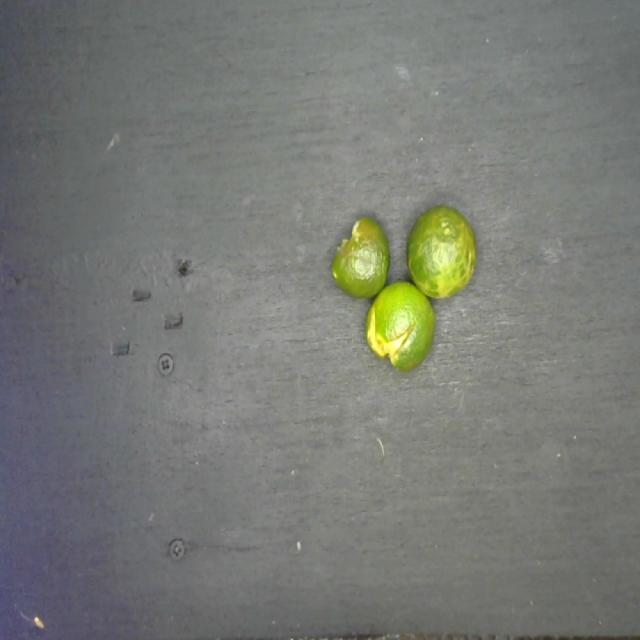biodegradable: (325, 192, 479, 378)
